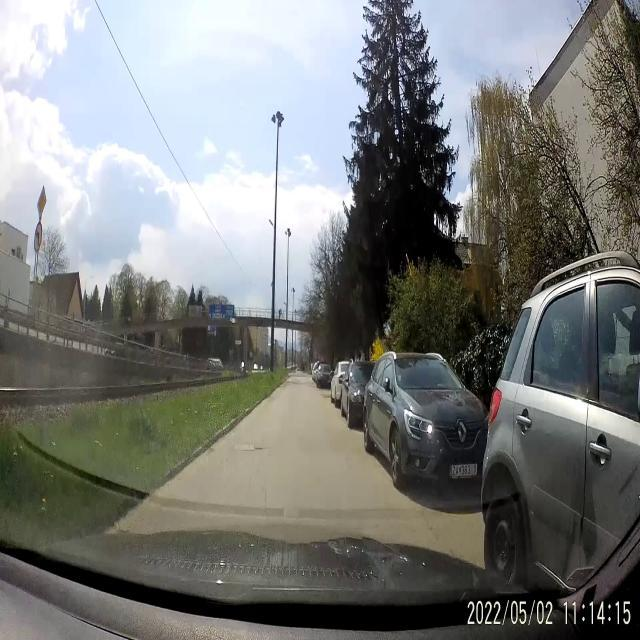Manhole: (238, 442, 256, 452)
Pothole: (255, 444, 268, 452)
